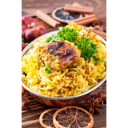briyani: (25, 38, 99, 91)
